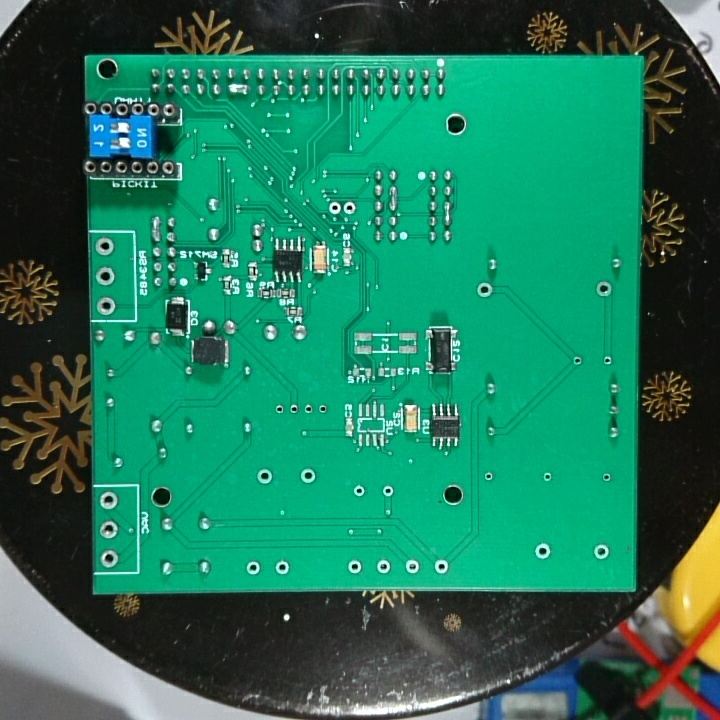F: (98, 487, 121, 515), (97, 546, 121, 571), (94, 235, 118, 260), (97, 518, 120, 543), (94, 295, 119, 318), (531, 540, 554, 563), (94, 265, 118, 287), (474, 280, 497, 300), (591, 540, 611, 563), (403, 556, 423, 579), (298, 467, 321, 486), (271, 558, 292, 578), (595, 278, 613, 301), (432, 558, 451, 579), (253, 467, 274, 486), (243, 559, 262, 580), (345, 558, 364, 578), (300, 399, 316, 420), (342, 198, 357, 220), (326, 199, 342, 219), (374, 558, 392, 575), (379, 484, 398, 500), (351, 482, 367, 498), (539, 469, 554, 486), (599, 470, 614, 486), (285, 401, 300, 417), (569, 353, 583, 370), (317, 399, 329, 418), (272, 401, 285, 418), (482, 469, 496, 484), (602, 353, 614, 368)
P: (225, 78, 252, 98), (385, 182, 402, 213), (440, 198, 455, 226), (148, 214, 162, 242)
